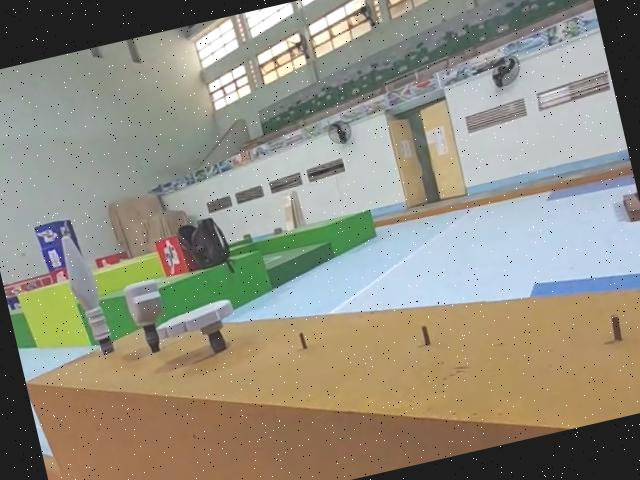Fist: (116, 274, 173, 355)
Hand: (148, 294, 243, 364)
Sph: (53, 230, 117, 360)
